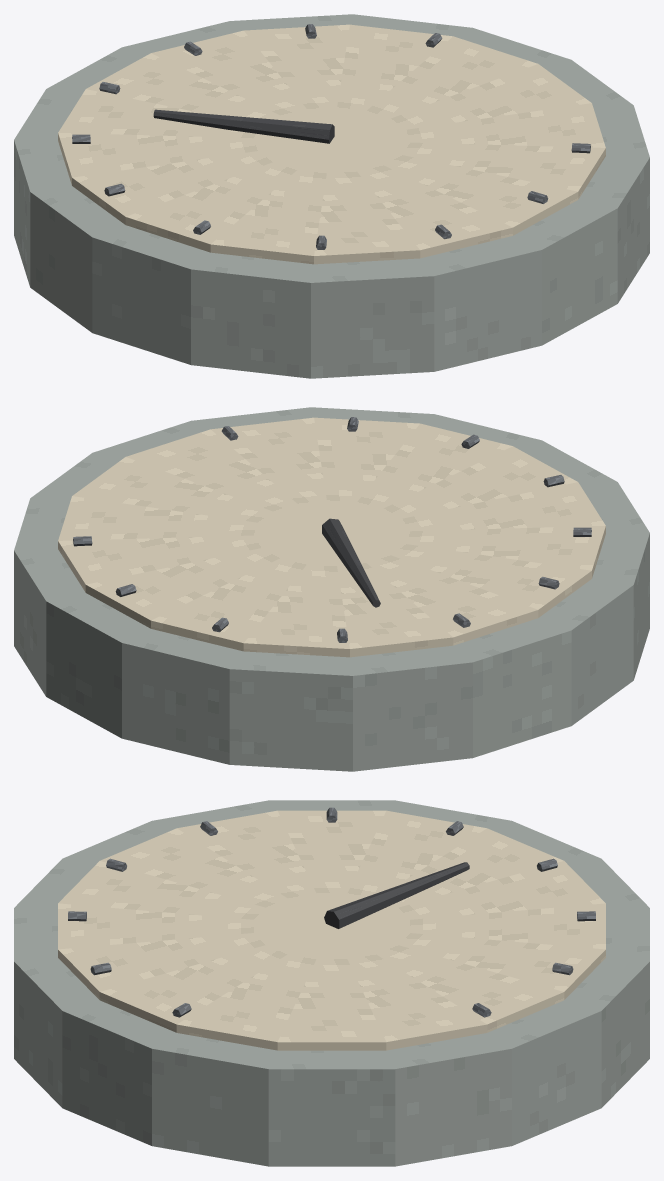
Rendered from barometer.glb.
3 renders of one model, top to bottom at view 1: azimuth 30°, elevation 25°; view 2: azimuth 150°, elevation 25°; view 3: azimuth 270°, elevation 25°, orthographic.
Visible parts, largest first — view 1: block_dial face, block_dial body, block_needle; view 2: block_dial face, block_dial body, block_needle; view 3: block_dial face, block_dial body, block_needle.
Boxes of the visible parts, left/top/right/bottom form: block_dial face: left=58, top=24, right=605, bottom=264; block_dial body: left=14, top=14, right=649, bottom=378; block_needle: left=153, top=109, right=334, bottom=143; block_dial face: left=58, top=417, right=605, bottom=657; block_dial body: left=14, top=407, right=649, bottom=771; block_needle: left=322, top=518, right=380, bottom=607; block_dial face: left=58, top=810, right=605, bottom=1050; block_dial body: left=14, top=800, right=649, bottom=1166; block_needle: left=324, top=862, right=469, bottom=928.
Size of the model in its own units: 0.1039 by 0.0218 by 0.1039.
Materials: 1 (1 with a texture image).
